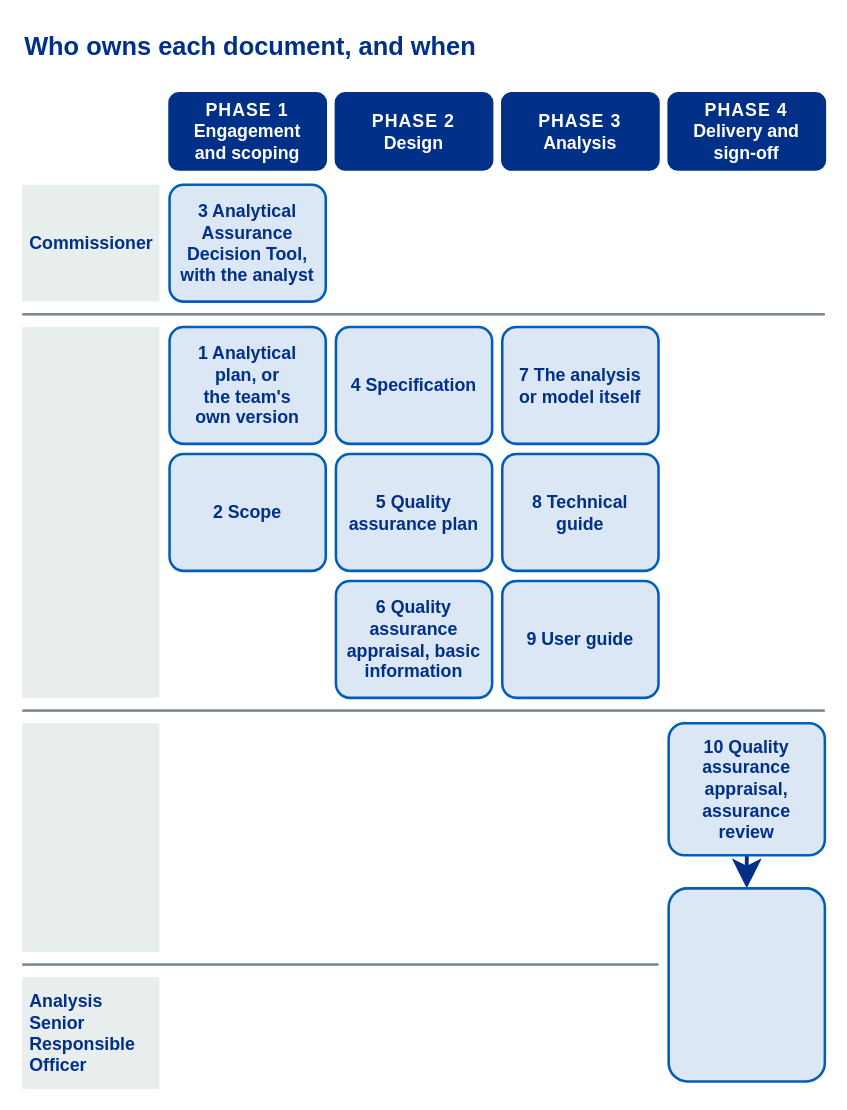
Image size: 847x1110. Some labels were removed from this diagram. Each missing label, with the centre of its shape:
"11 Quality assurance sign-off: critical friend, then the officer" belongs at point 746,984.
"Analyst" belongs at point 90,511.
"Critical friend, as Lead Assurer" belongs at point 90,837.
